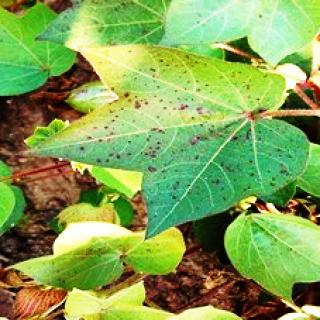blight: (56, 55, 248, 242)
